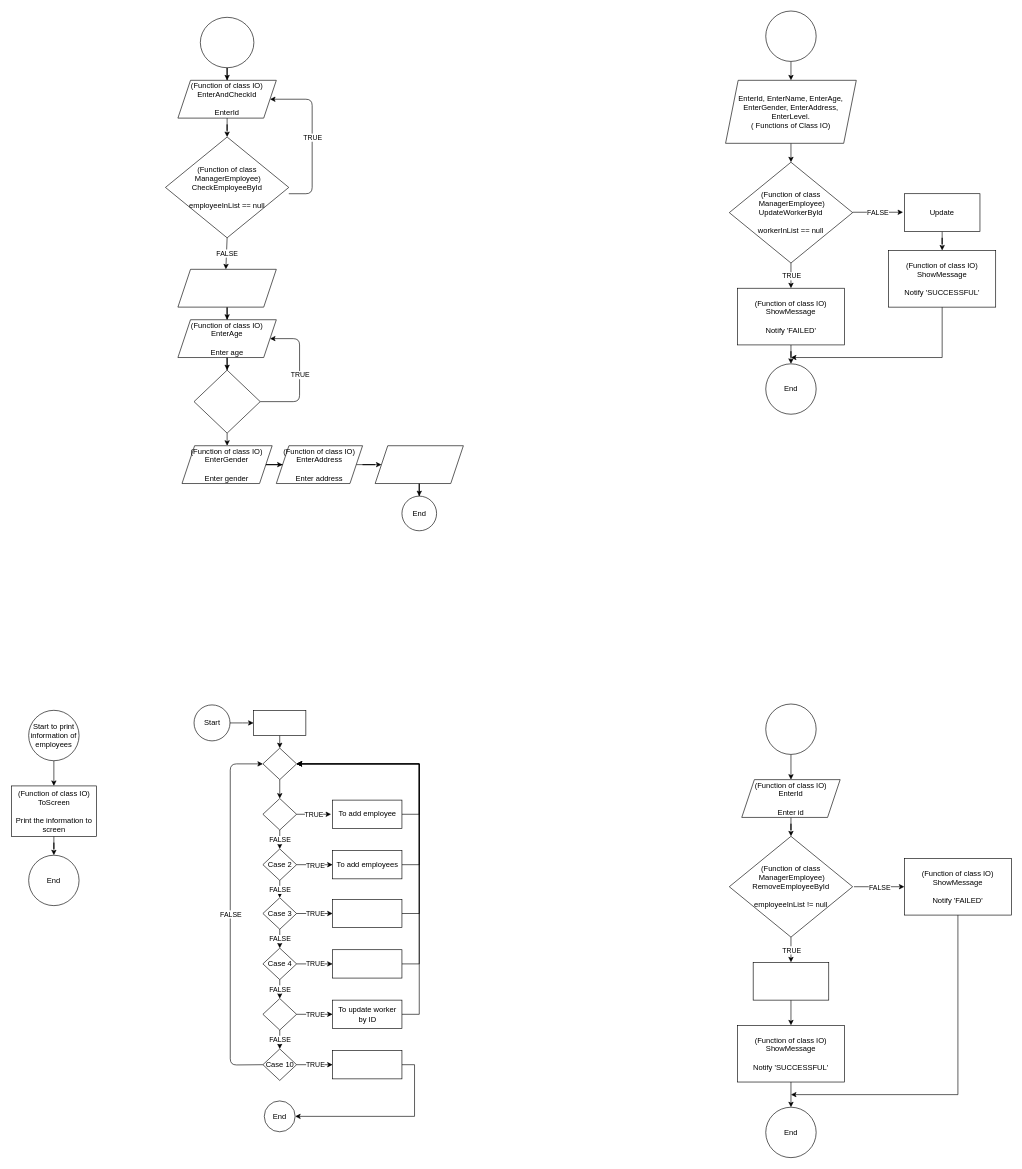
Some shapes in this 1022 by 1169 pixel diagram are drawn without their labels. The shapes that lost their labels are listed below. From the top down, each one's centre as x and y in pixels, then its label:
the point at 227,42: Start to enter the information of worker
the point at 790,35: Start to update worker by ID
the point at 226,288: (Function of class IO) EnterName Enter name
the point at 226,401: age > 100 || age <= 0
the point at 419,464: (Function of class IO) EnterLevel Enter level
the point at 279,723: MenuOption
the point at 790,728: Start to delete the employee
the point at 279,763: Switch
the point at 279,814: Case 1
the point at 367,913: To remove employee
the point at 367,963: To update engineer by ID
the point at 791,981: Remove
the point at 279,1014: Case 5
the point at 367,1064: Exit
